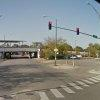Crosswalk: (12, 68, 100, 100)
